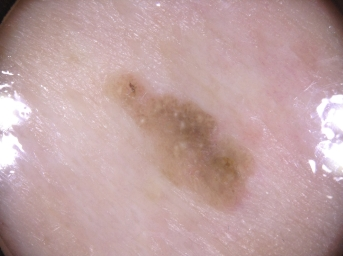seborrheic keratosis: (100, 58, 261, 223)
